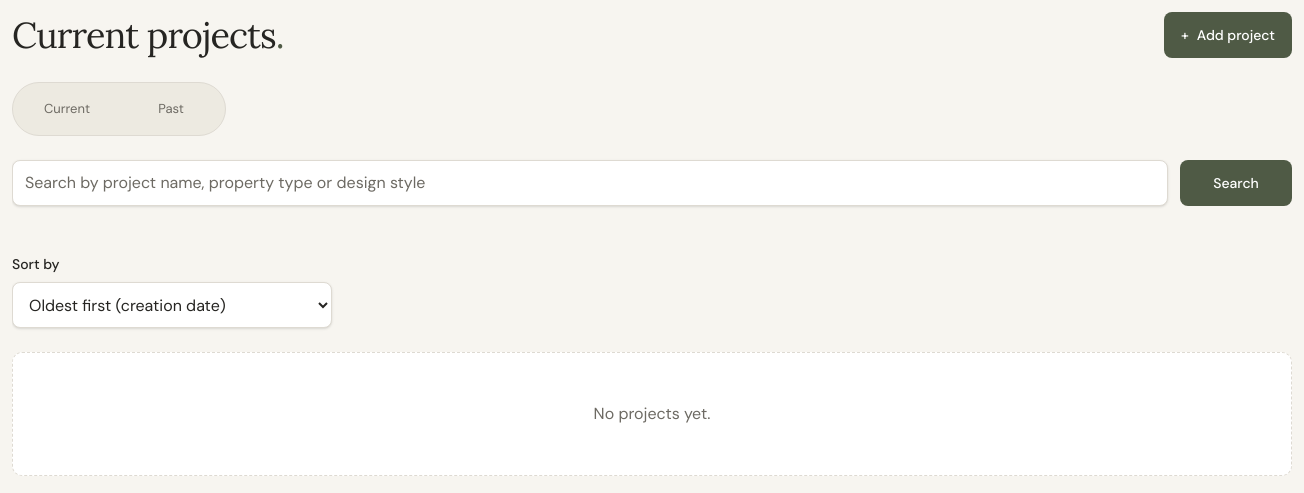
Test case: an empty collection differs from a search with no matches
The image size is (1304, 493).
Expected: the text "No projects yet." is shown, x1=12 y1=352 x2=1292 y2=476
In the field labelled "Search": coordinates (590, 183) x1=12 y1=160 x2=1168 y2=206, type "missing"
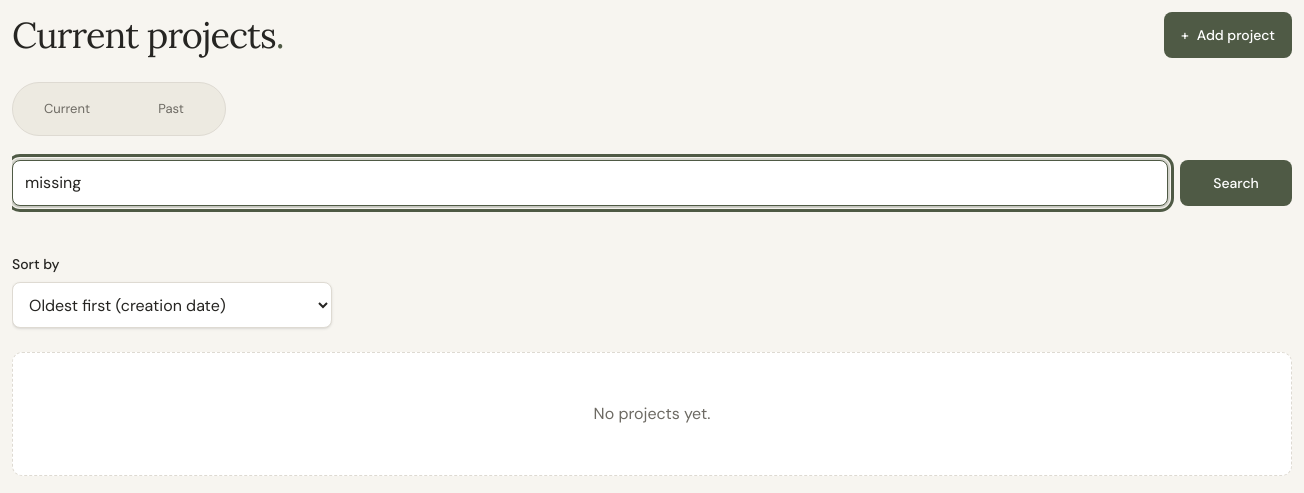
Click the button "Search": coordinates (1236, 183) x1=1180 y1=160 x2=1292 y2=206
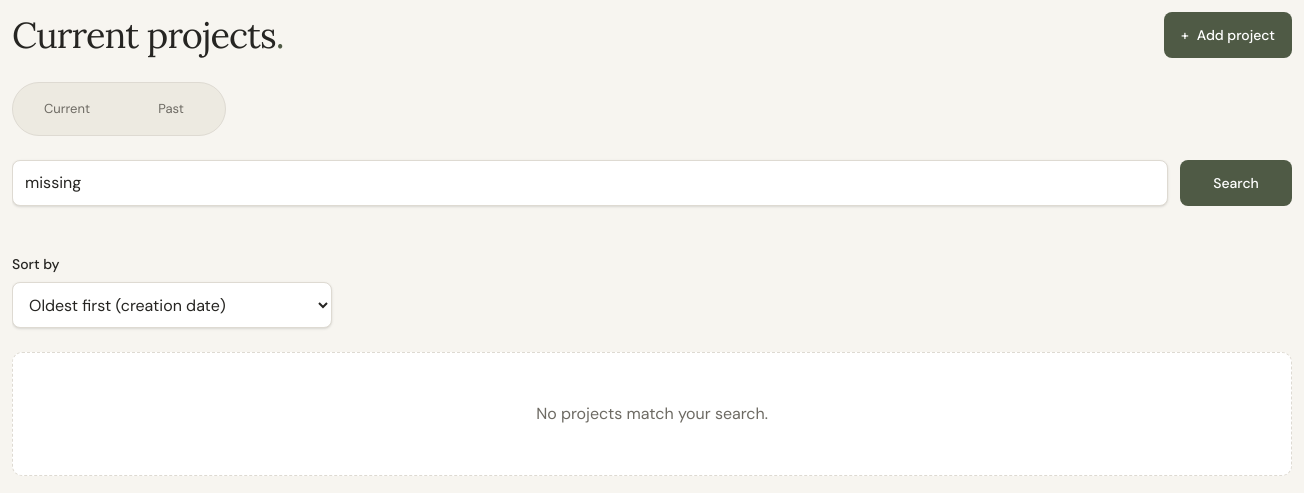
Expected: the text "No projects match your search." is shown, x1=12 y1=352 x2=1292 y2=476
Expected: the text "No projects yet." is gone
